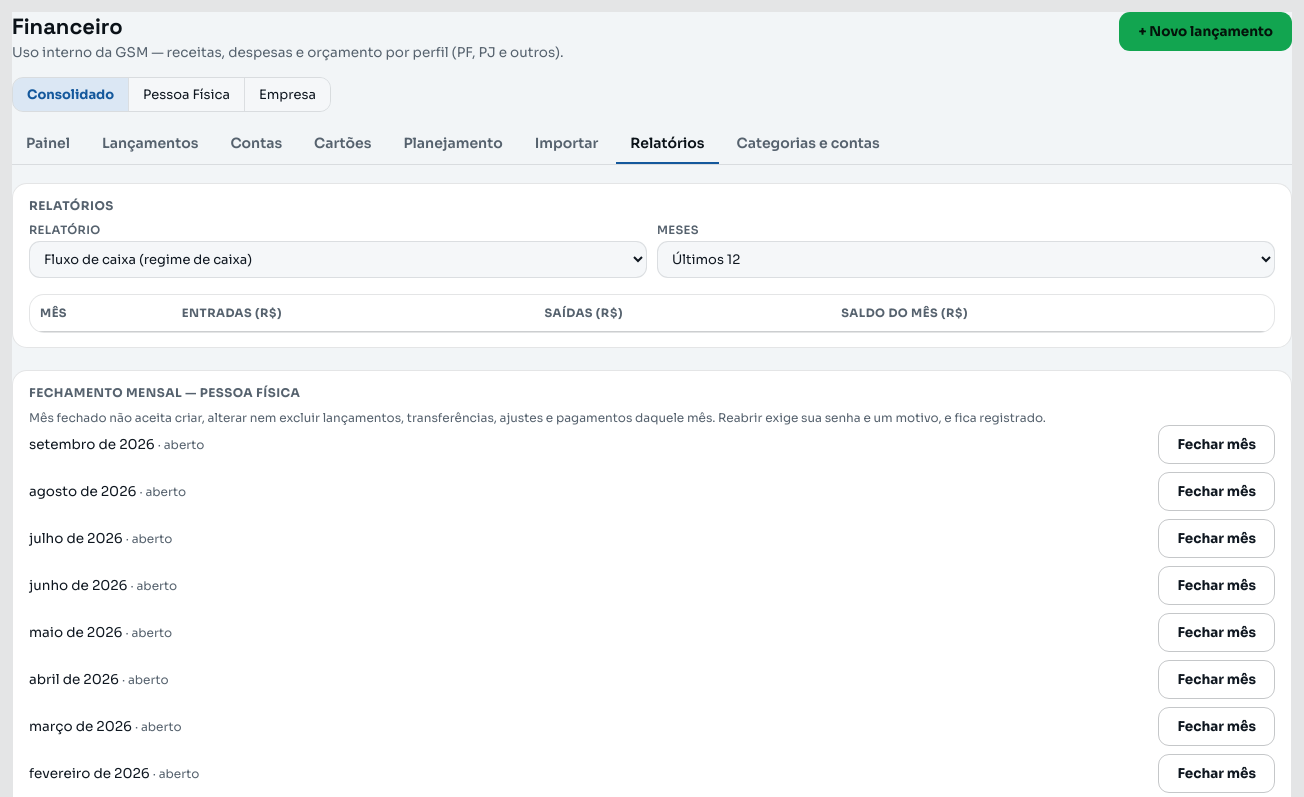
Test case: Relatórios › resultado gerencial PJ mostra o aviso de que não é apuração fiscal e a conta
Expected: the table named "Fluxo de caixa por mês" is shown, [30,295,1274,332]
Select "Resultado gerencial PJ" in the dropdown labelled "Relatório": (338, 260) [29,241,647,278]
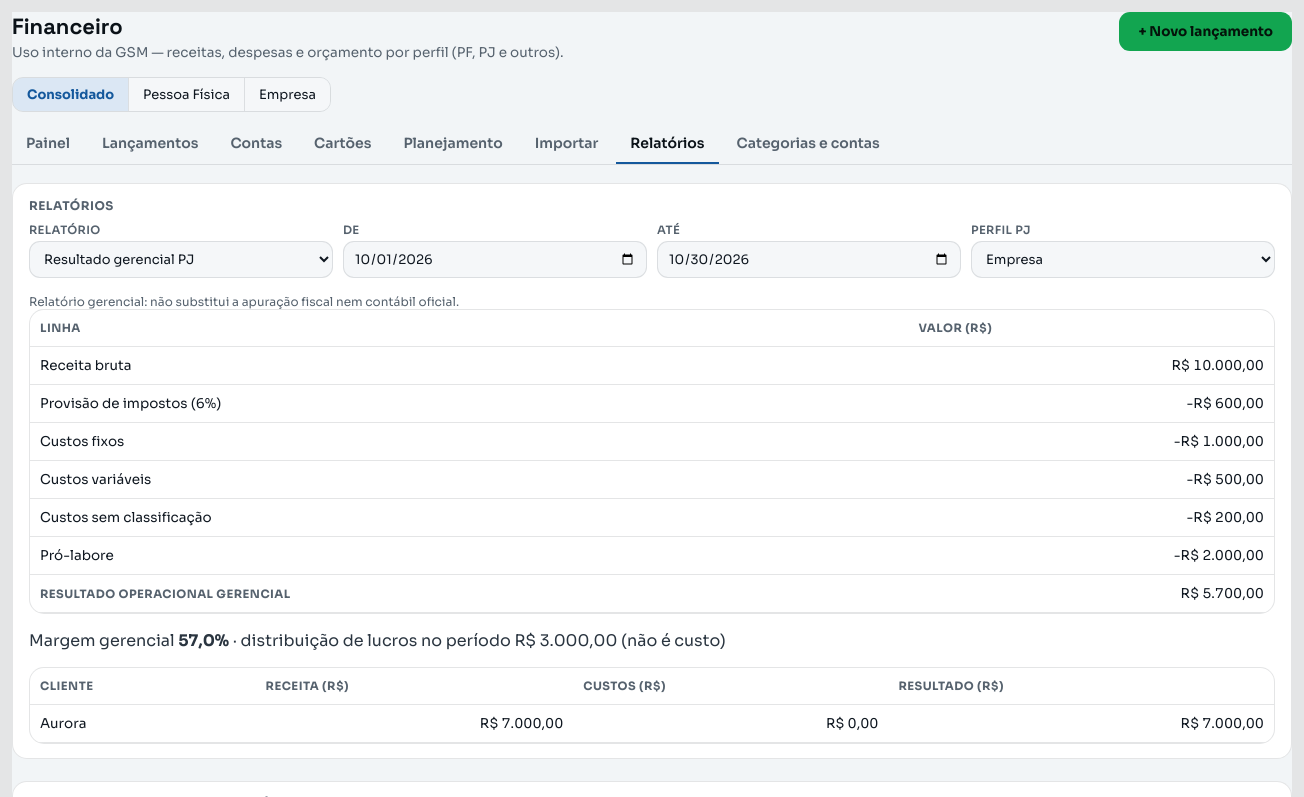
Result: the text "não substitui a apuração fiscal" is shown at [29,294,459,309]
Result: the column heading "Resultado operacional gerencial" is shown at [30,574,908,612]
Result: the text "R$ 5.700,00" is shown at [908,574,1274,612]
